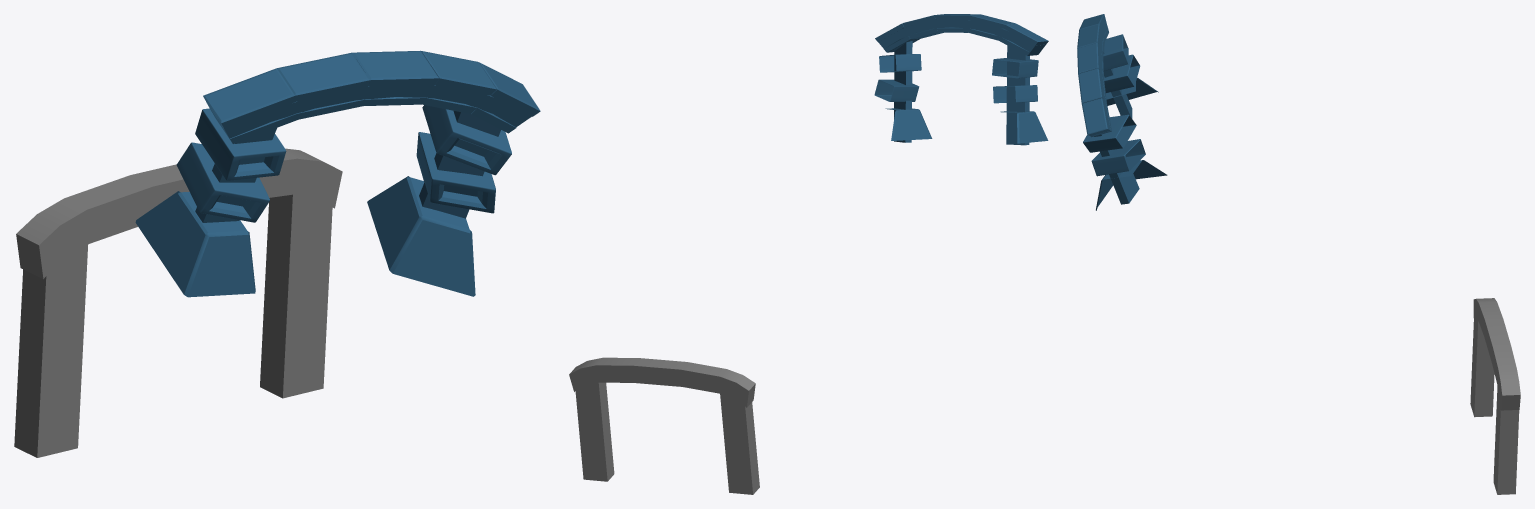
File: Arches.fbx
3 renders of one model, left to right at view 1: azimuth 30°, elevation 25°; view 2: azimuth 150°, elevation 25°; view 3: azimuth 270°, elevation 25°, orthographic. The views are drawn at different scales.
Parts seen in each view (by area): view 1: pCube199, pCube24; view 2: pCube24, pCube199; view 3: pCube199, pCube24.
Boxes of the visible parts, x1,y1,x2,y2 form: pCube199: (135, 50, 540, 297); pCube24: (14, 148, 342, 457); pCube24: (569, 357, 759, 494); pCube199: (874, 14, 1048, 145); pCube199: (1077, 14, 1167, 210); pCube24: (1470, 298, 1520, 494).
Size of the model in its own units: 42.22 by 52.27 by 57.93.
